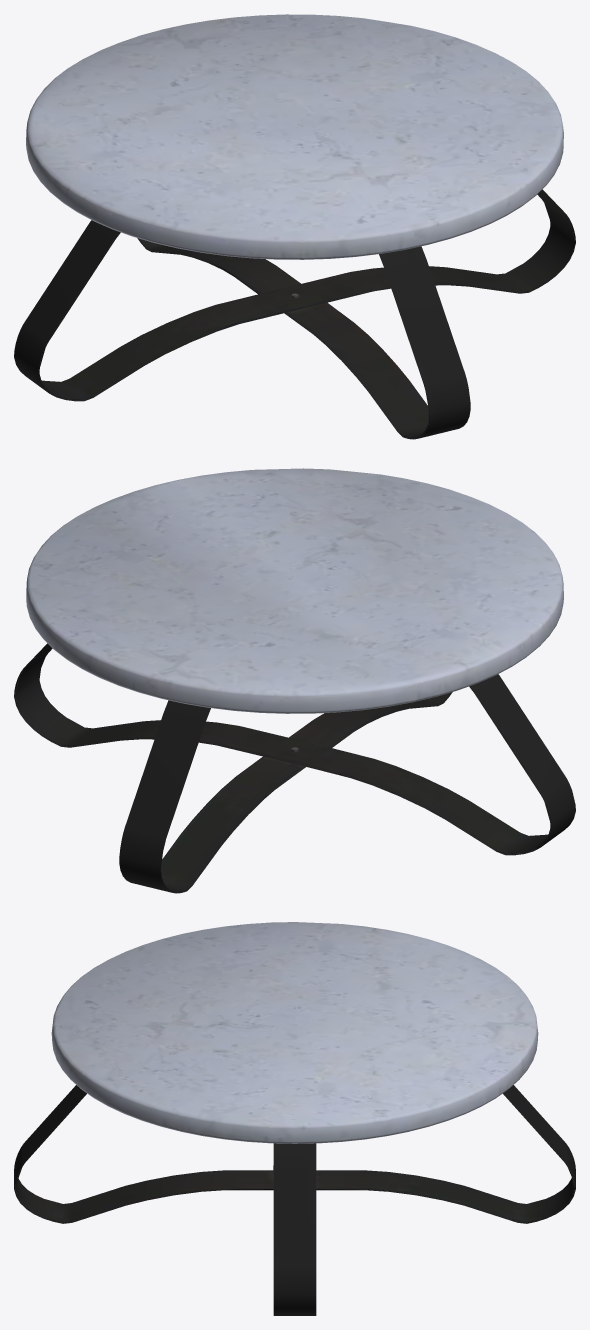
The model's file is coffee_table_round_01.glb.
The picture shows the model from 3 angles, top to bottom: view 1: azimuth 30°, elevation 25°; view 2: azimuth 150°, elevation 25°; view 3: azimuth 270°, elevation 25°; orthographic projection. The views are drawn at different scales.
Visible parts, largest first — view 1: coffee_table_round_01; view 2: coffee_table_round_01; view 3: coffee_table_round_01.
Part boxes in pixels (<box>): coffee_table_round_01: <box>14,14,575,439</box>; coffee_table_round_01: <box>14,468,575,893</box>; coffee_table_round_01: <box>14,922,575,1315</box>.
Size of the model in its own units: 1.3 by 0.4909 by 1.3.
Materials: 1 (1 with a texture image).
